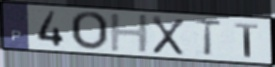4: (35, 9, 66, 48)
H: (109, 13, 152, 54)
O: (69, 11, 111, 52)
T: (191, 18, 224, 57), (233, 21, 261, 59)
X: (150, 15, 186, 57)
